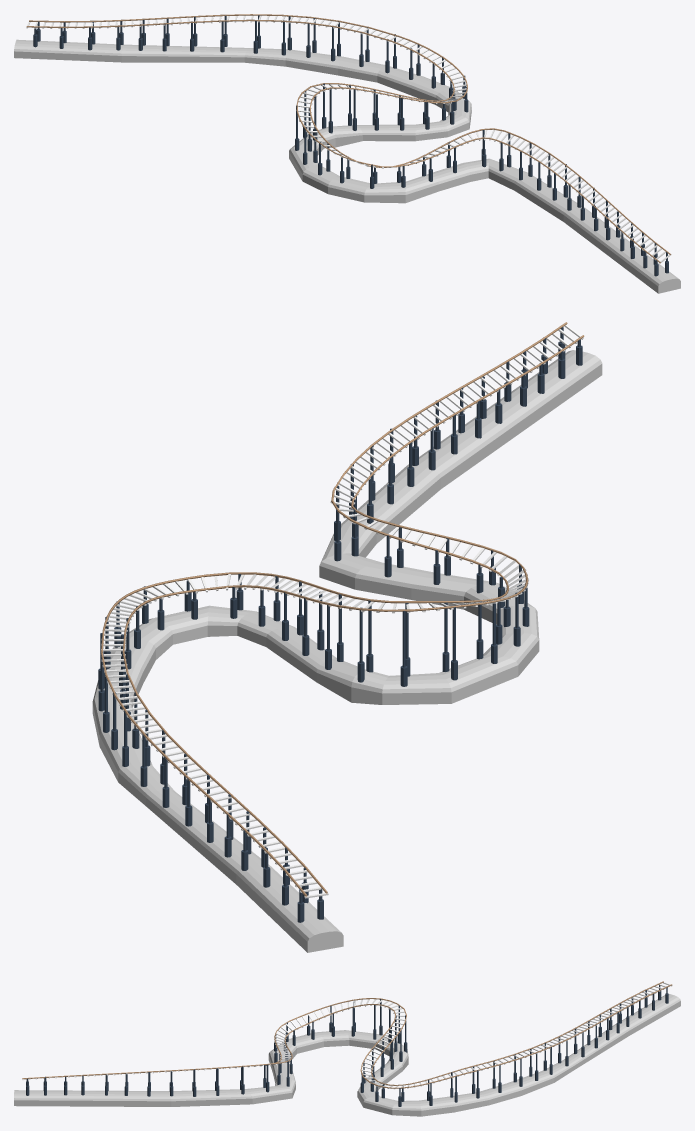
The model's file is RC_Playground_02.fbx.
3 views of the same model, one above another, from view 1: azimuth 30°, elevation 25°; view 2: azimuth 150°, elevation 25°; view 3: azimuth 270°, elevation 25° (orthographic). The views are drawn at different scales.
Visible parts, largest first — view 1: Platform.005, Columns.005, Path.005, RailStep.005; view 2: Platform.005, Columns.005, RailStep.005, Path.005; view 3: Platform.005, Columns.005, Path.005, RailStep.005.
Part boxes in pixels (x1=…): Platform.005: x1=14, y1=39, x2=680, y2=293; Columns.005: x1=33, y1=15, x2=668, y2=276; Path.005: x1=26, y1=14, x2=670, y2=263; RailStep.005: x1=26, y1=15, x2=671, y2=263; Platform.005: x1=92, y1=350, x2=602, y2=952; Columns.005: x1=98, y1=327, x2=582, y2=922; RailStep.005: x1=101, y1=325, x2=583, y2=898; Path.005: x1=101, y1=322, x2=584, y2=896; Platform.005: x1=14, y1=994, x2=680, y2=1116; Columns.005: x1=26, y1=985, x2=668, y2=1106; Path.005: x1=22, y1=981, x2=672, y2=1088; RailStep.005: x1=22, y1=982, x2=672, y2=1089.
Bounding box in the file's own units: 5311 × 1047 × 13012.
